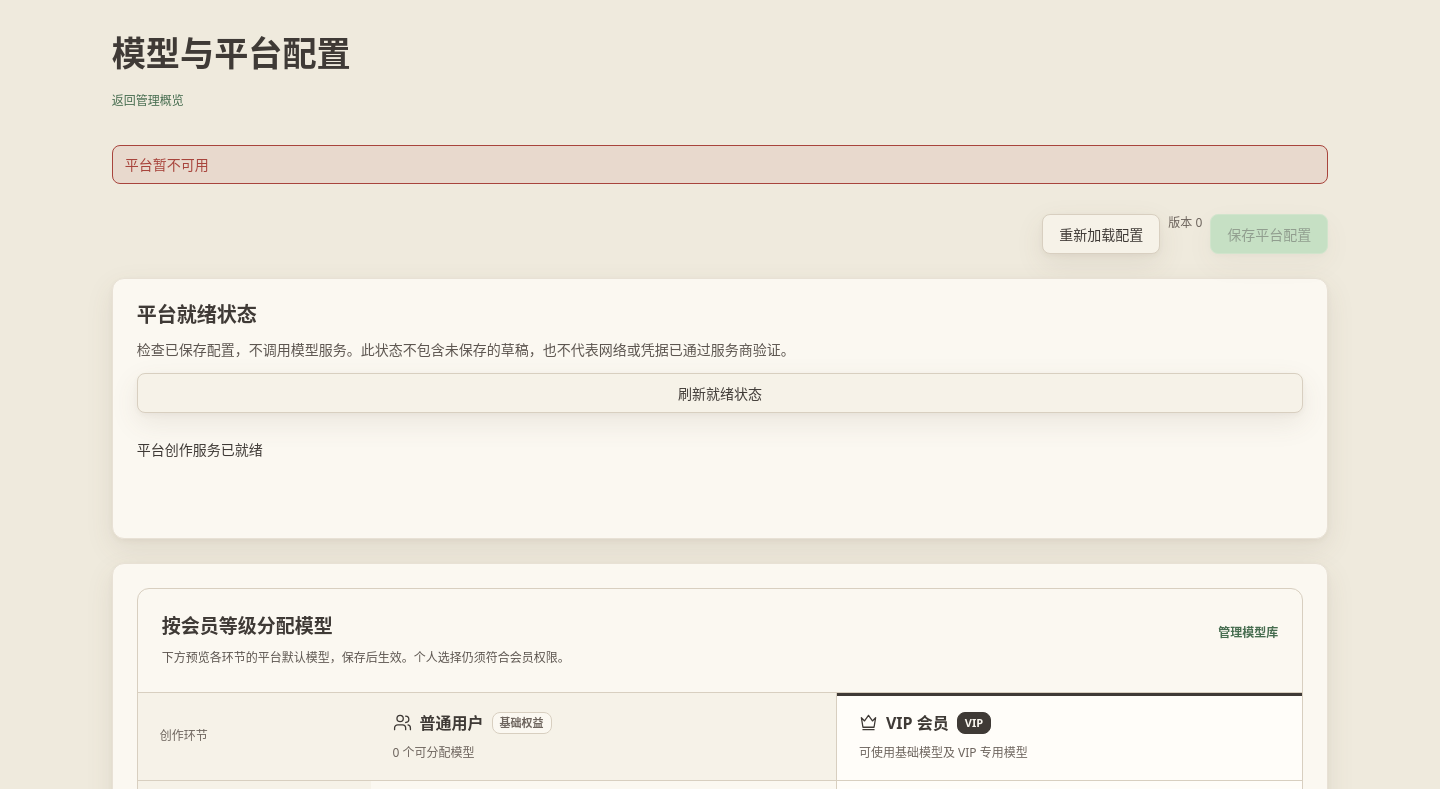
Test case: keeps configuration disabled after a load failure and supports retry
The image size is (1440, 789).
Expected: the message "平台暂不可用" is shown, [112,145,1328,184]
Expected: the button "保存平台配置" is disabled, [1210,214,1328,254]
Click the button "重新加载配置" at (1101, 234), box [1042,214,1160,254]
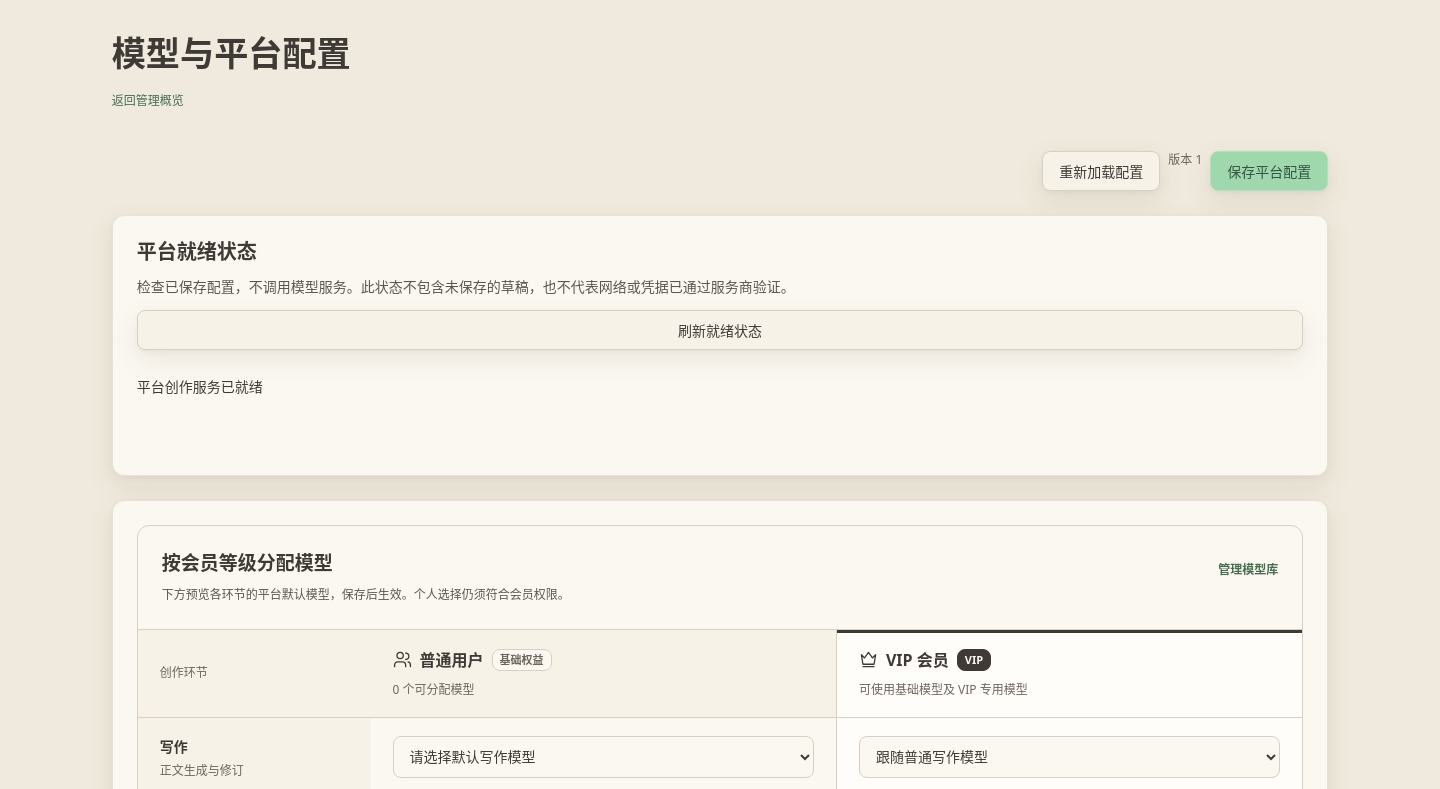
Result: the button "保存平台配置" is enabled at [1210,151,1328,191]
